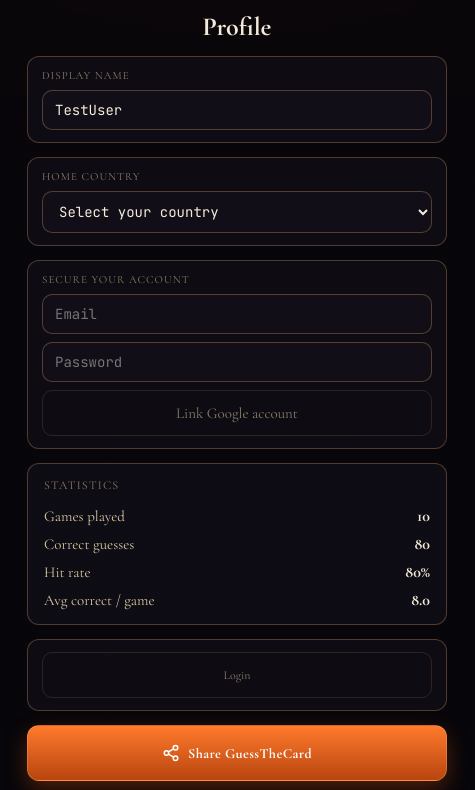
Scenario: ProfilePanel — anonymous › reveals secure-submit only once both email and password are filled
The image size is (475, 790).
Type "me@example.com" into the field with test id "secure-email".
click(237, 314); type("me@example.com")  # box [42,294,432,334]
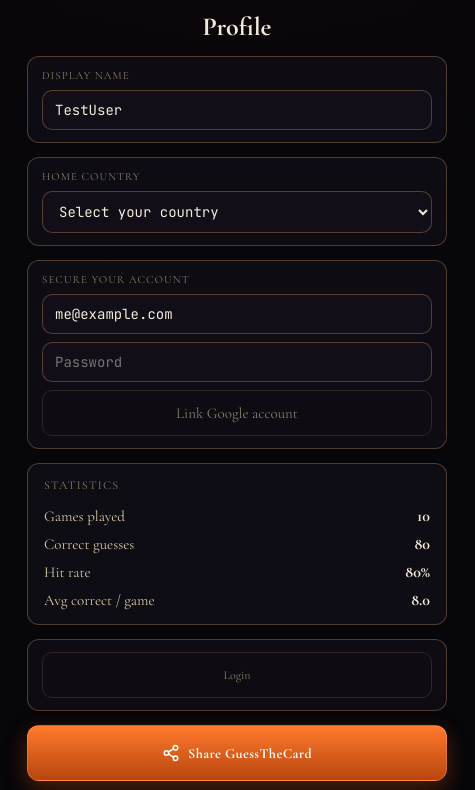
Type "pw123456" into the password field with test id "secure-password".
click(237, 362); type("pw123456")  # box [42,342,432,382]
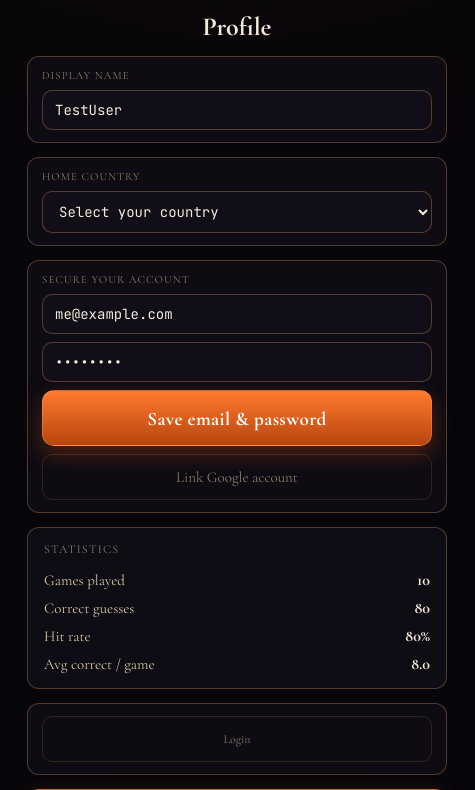
Now the button with test id "secure-submit" is shown, box [42,390,432,446]
